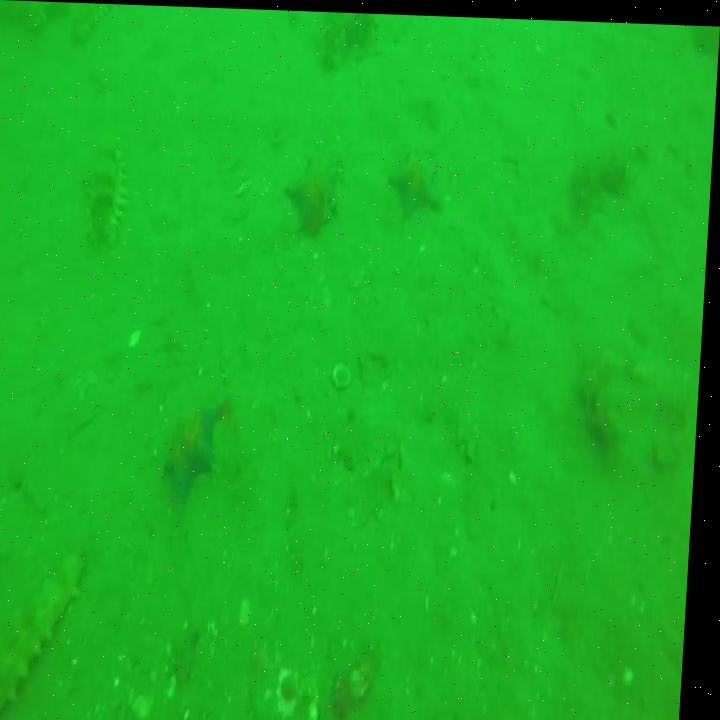holothurian: (0, 547, 94, 720), (84, 147, 134, 246), (70, 2, 108, 42)
scallop: (283, 667, 312, 712), (358, 657, 382, 700), (336, 363, 356, 390)
starfish: (168, 397, 229, 500), (287, 149, 341, 233), (388, 152, 448, 225)
